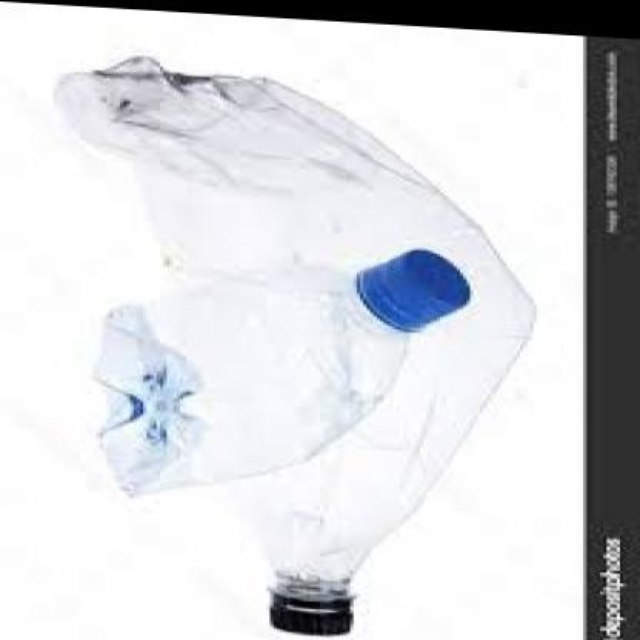trash: (55, 57, 532, 634)
